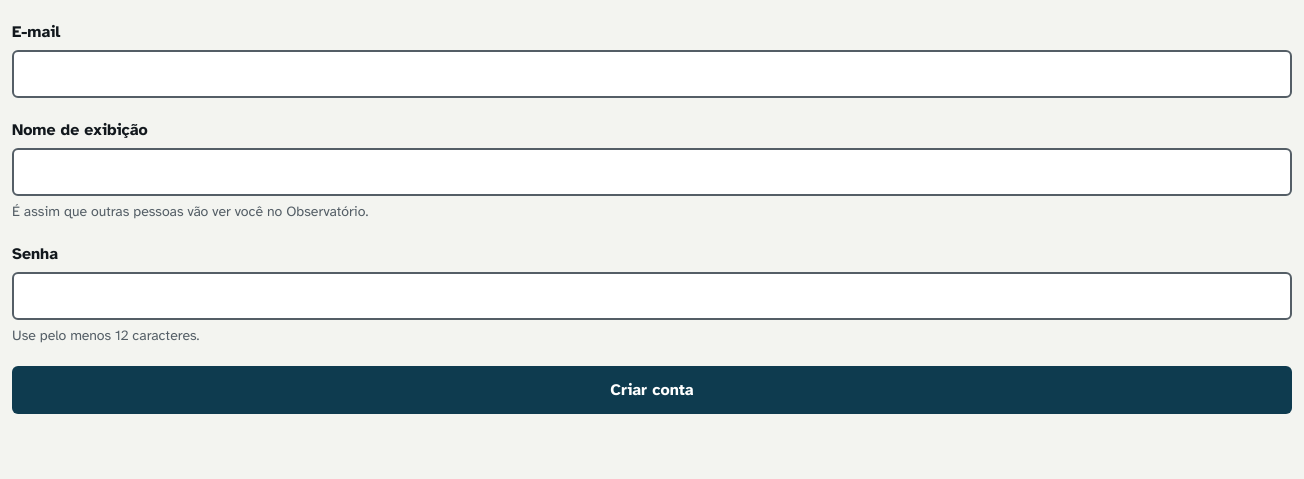
Scenario: SignUpForm › disables the button while the request is in flight
The image size is (1304, 479).
Later steps or results of the test are not shown.
Type "ana@exemplo.com" into the field labelled "E-mail" at [652, 74], box [12, 50, 1292, 98]
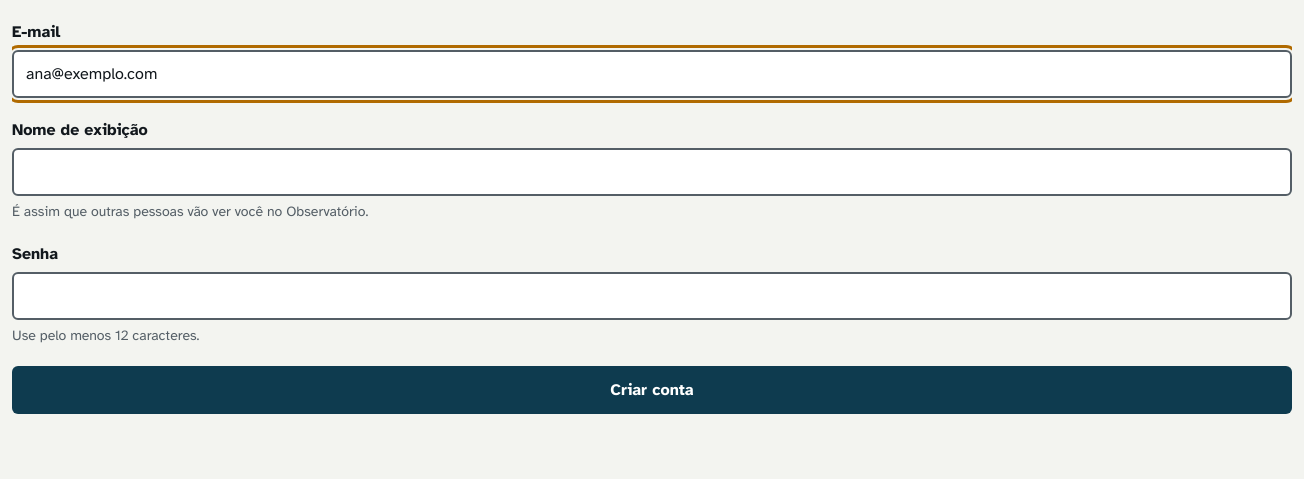
Type "Ana" into the field labelled "Nome de exibição" at [652, 172], box [12, 148, 1292, 196]
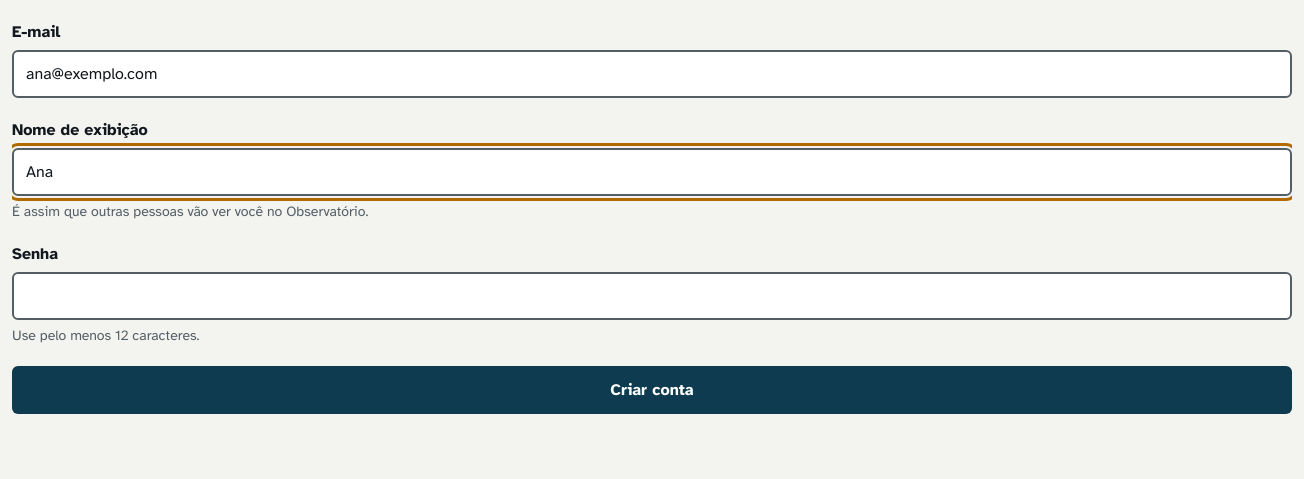
Type "senha-bem-longa" into the password field labelled "Senha" at [652, 296], box [12, 272, 1292, 320]
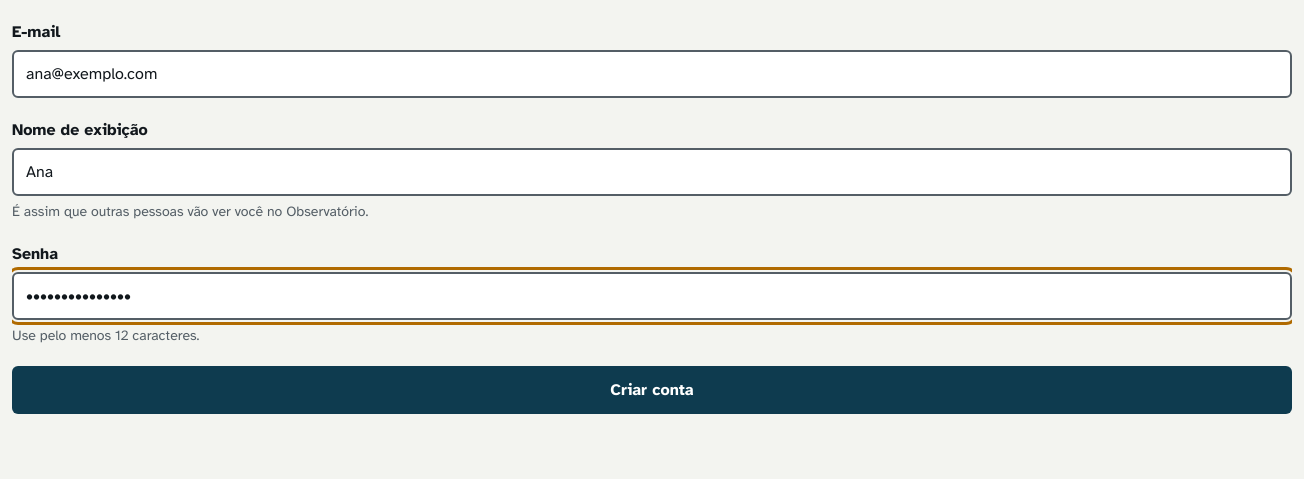
Click the button "Criar conta" at [652, 390], box [12, 366, 1292, 414]
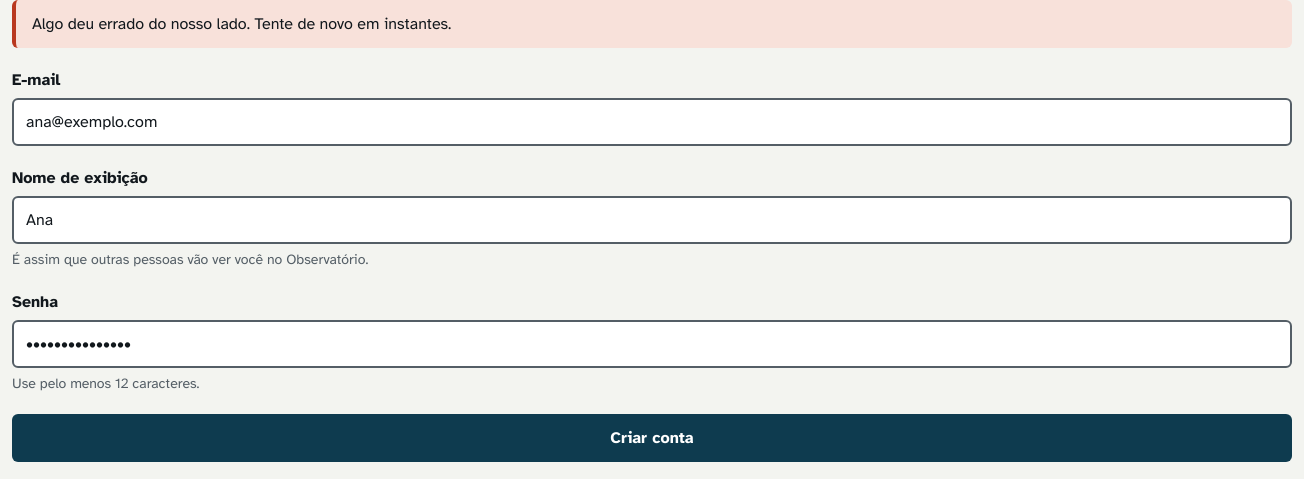
Expected: the button "Criar conta" is enabled, [12, 414, 1292, 462]
Expected: the message reads "Algo deu errado do nosso lado. Tente de novo em instantes.", [32, 14, 451, 34]
